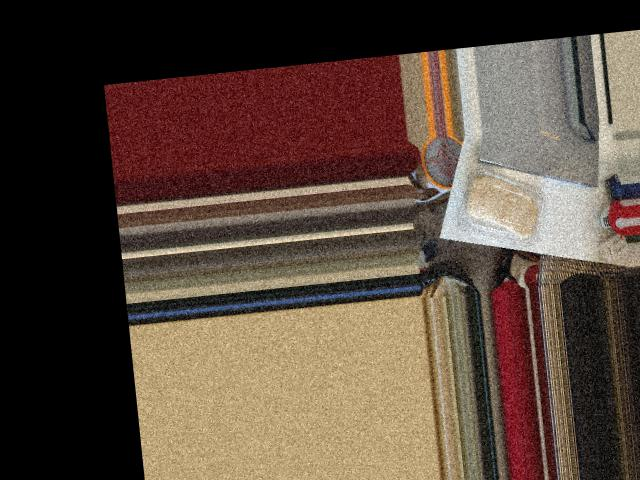cheese: (445, 161, 554, 254)
